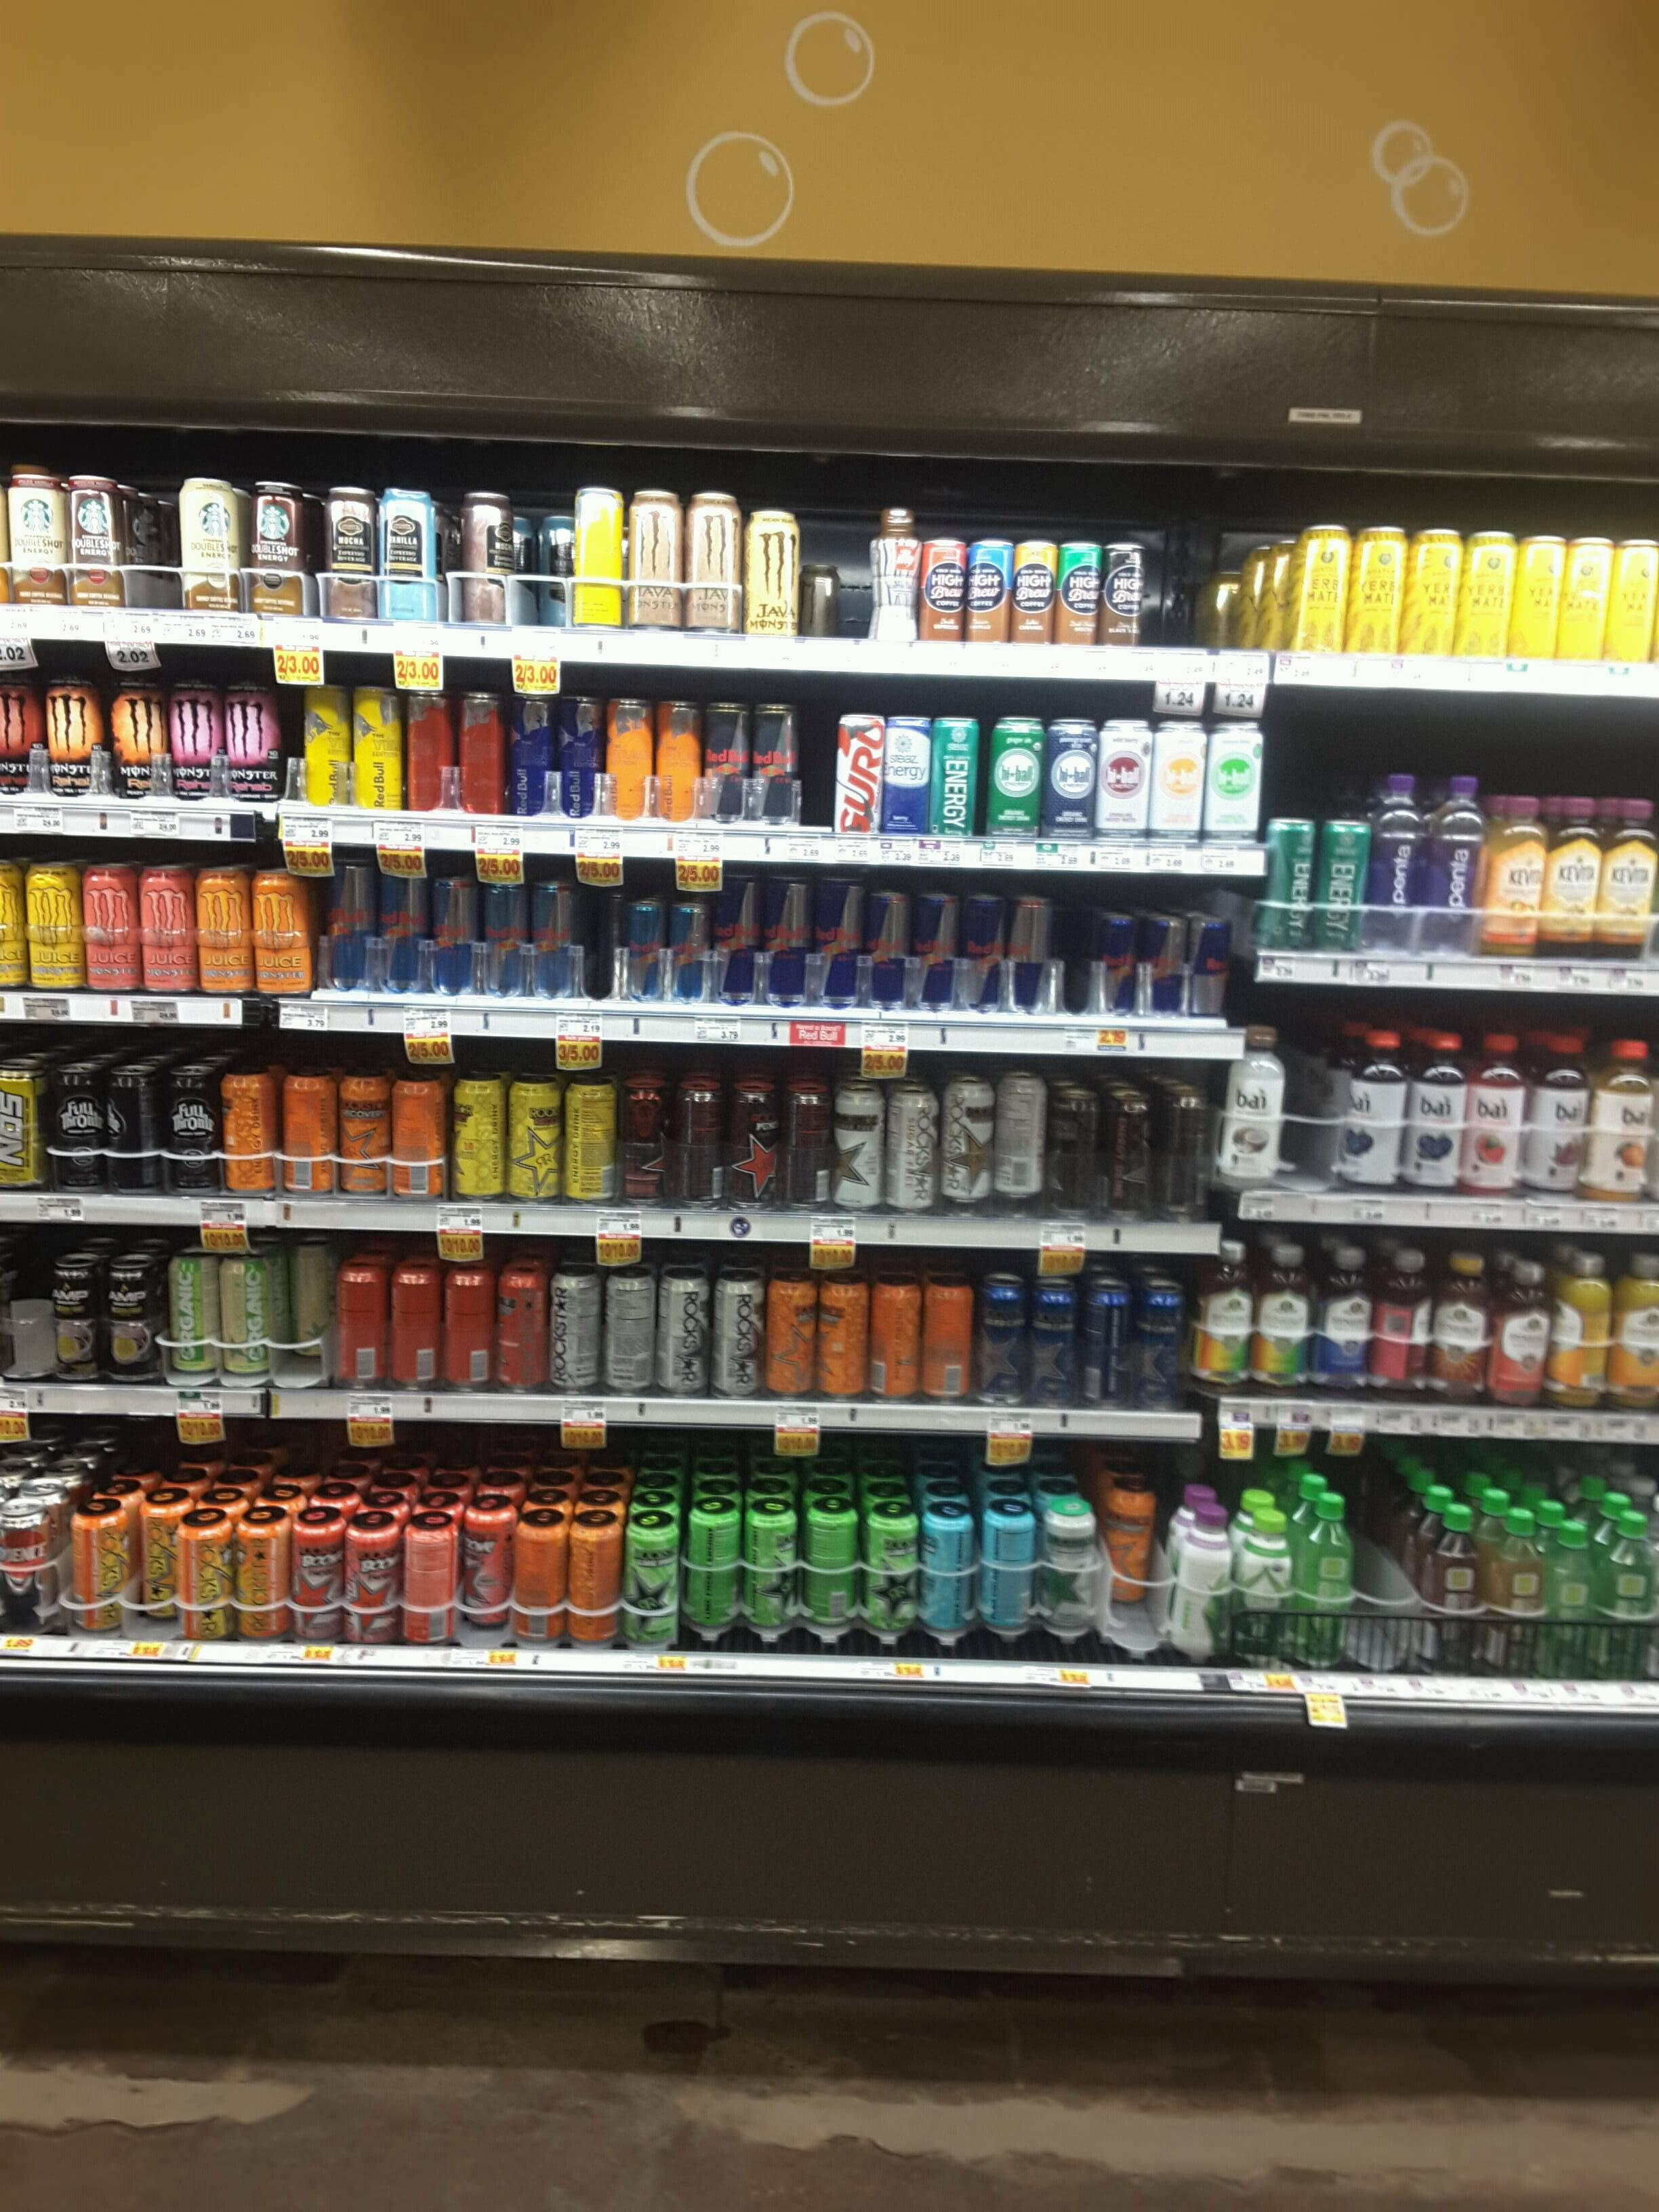empty: (1352, 1487, 1415, 1662), (1145, 529, 1216, 650), (1058, 892, 1098, 1017)
misalignment: (803, 709, 880, 833), (803, 561, 866, 639)
